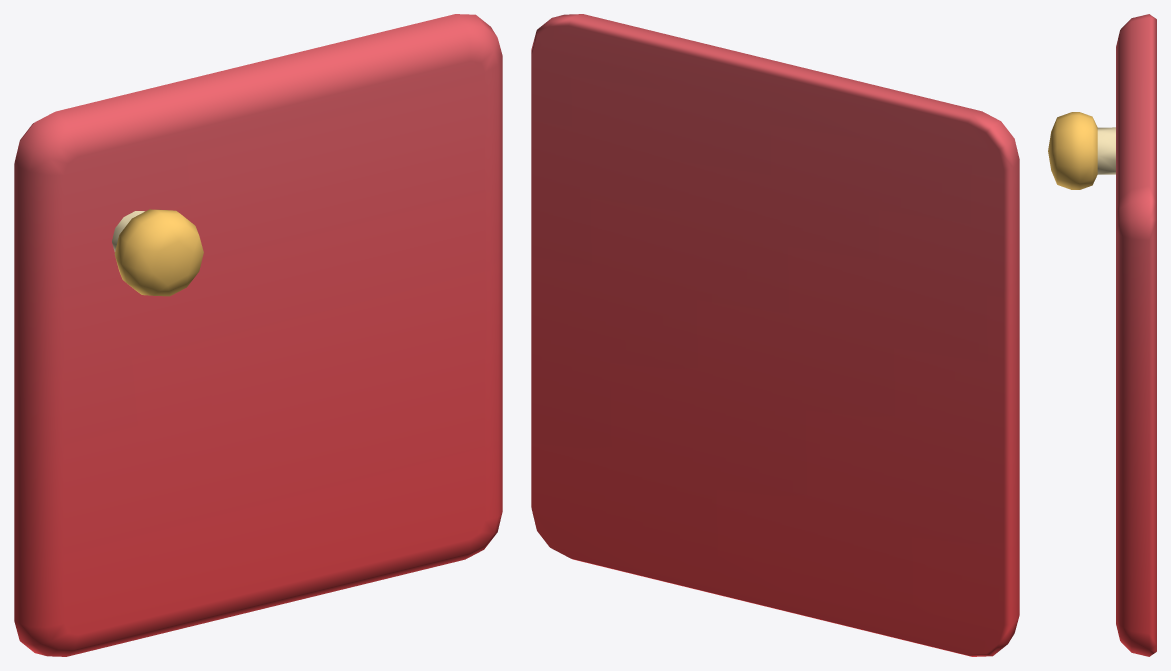
The model's file is Kitchen_Cabinet_001_door_002.fbx.
3 views of the same model, side by side, from view 1: azimuth 30°, elevation 25°; view 2: azimuth 150°, elevation 25°; view 3: azimuth 270°, elevation 25° (orthographic). The views are drawn at different scales.
Parts seen in each view (by area): view 1: Kitchen_Cabinet_001_door_002; view 2: Kitchen_Cabinet_001_door_002; view 3: Kitchen_Cabinet_001_door_002.
Boxes of the visible parts, left/top/right/bottom form: Kitchen_Cabinet_001_door_002: left=14, top=14, right=502, bottom=656; Kitchen_Cabinet_001_door_002: left=531, top=14, right=1019, bottom=656; Kitchen_Cabinet_001_door_002: left=1048, top=14, right=1156, bottom=656.
Size of the model in its own units: 49.95 by 11.34 by 53.67.
